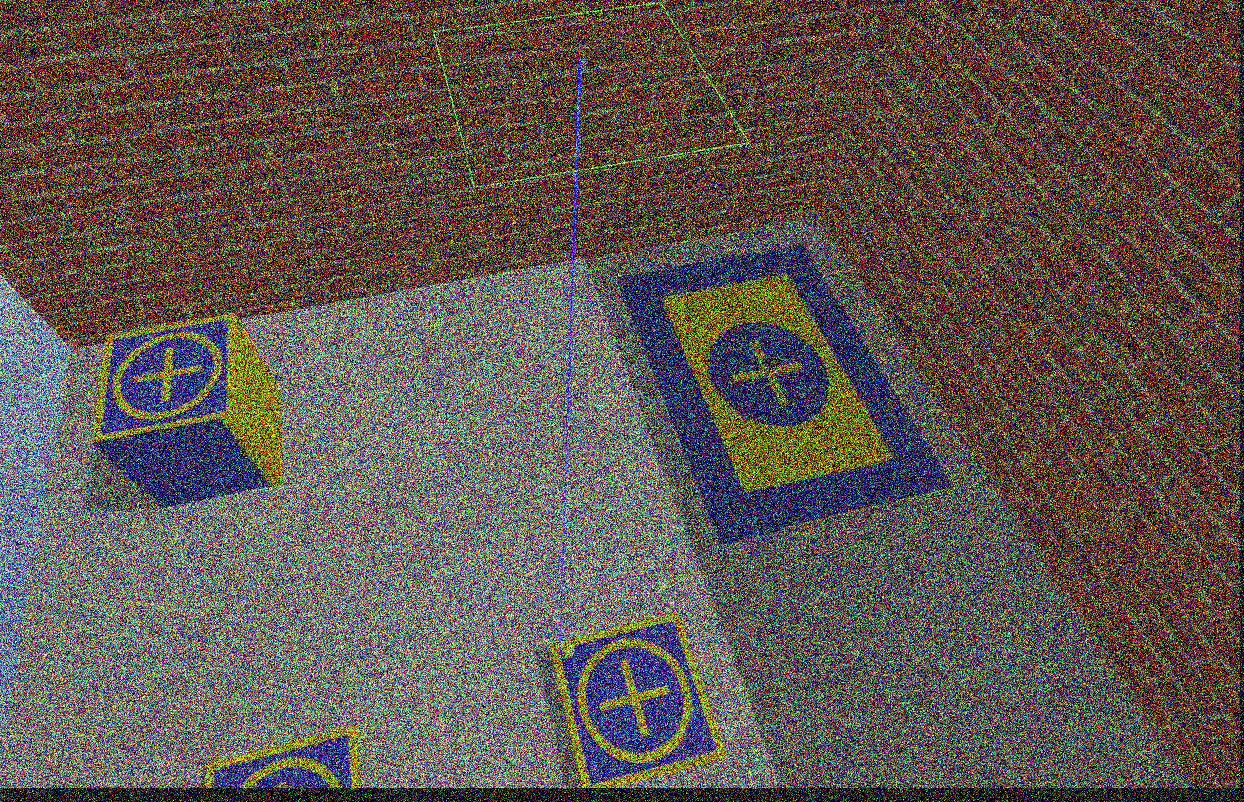large_base: (616, 243, 956, 549)
small_base: (548, 613, 730, 792), (91, 315, 239, 450), (205, 724, 363, 793)
